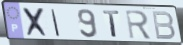9: (77, 9, 98, 40)
B: (150, 10, 177, 41)
I: (51, 9, 62, 38)
R: (124, 9, 153, 40)
T: (102, 10, 121, 40)
X: (21, 6, 51, 38)
